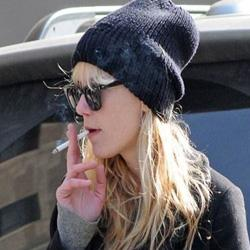cigarro: (52, 127, 92, 156)
fumador: (52, 3, 226, 238)
